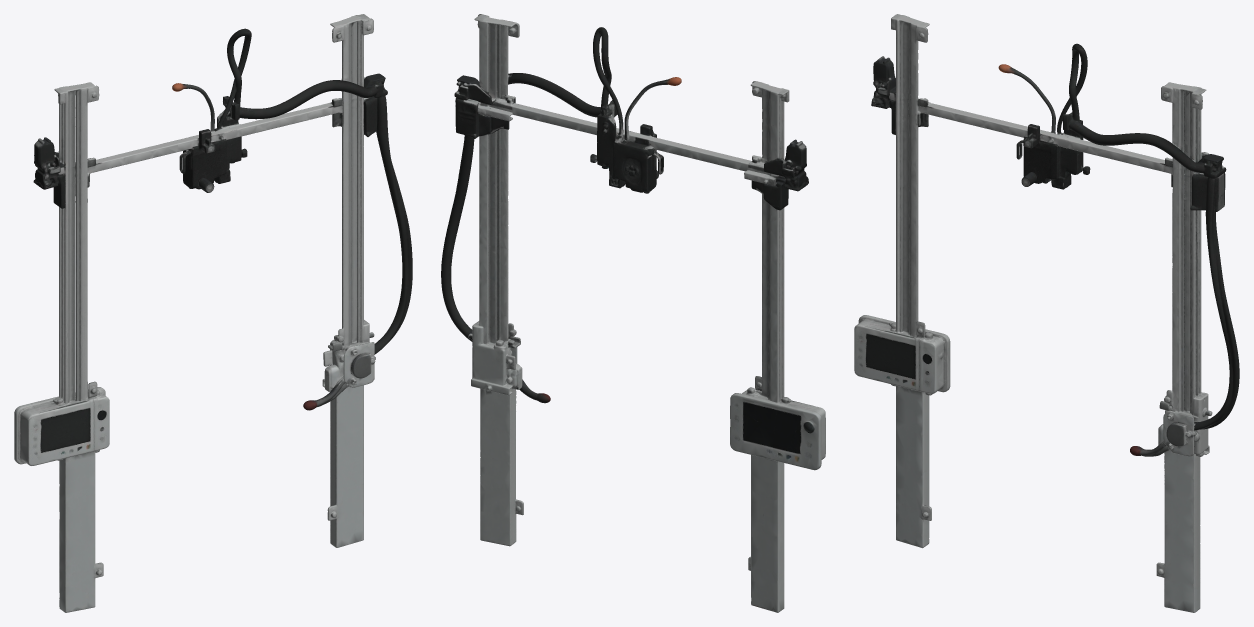
File: printer.glb
The picture shows the model from 3 angles, left to right: view 1: azimuth 30°, elevation 25°; view 2: azimuth 150°, elevation 25°; view 3: azimuth 330°, elevation 25°; orthographic projection.
Visible parts, largest first — view 1: mesh_node; view 2: mesh_node; view 3: mesh_node.
Part boxes in pixels (box(x1,y1,x2,y2)): mesh_node: box(14, 14, 412, 612); mesh_node: box(441, 14, 825, 612); mesh_node: box(854, 14, 1239, 612).
Size of the model in its own units: 1.43 by 1.9 by 0.1289.
1 material, 1 textured.
